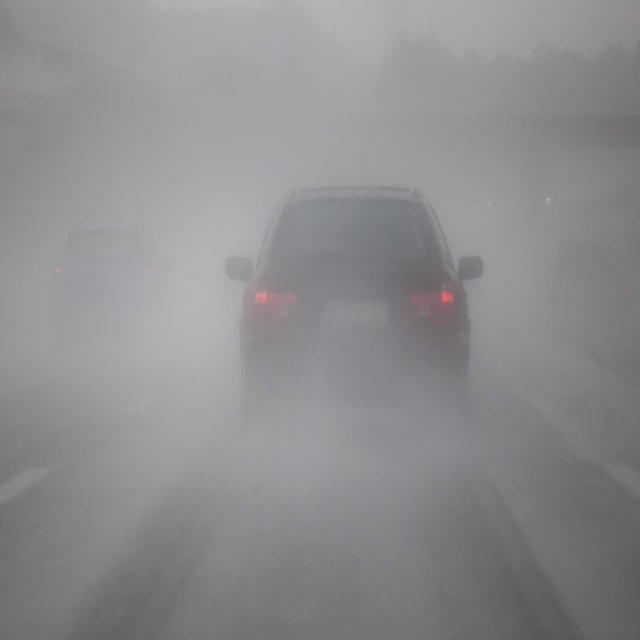Car: (214, 159, 501, 437)
